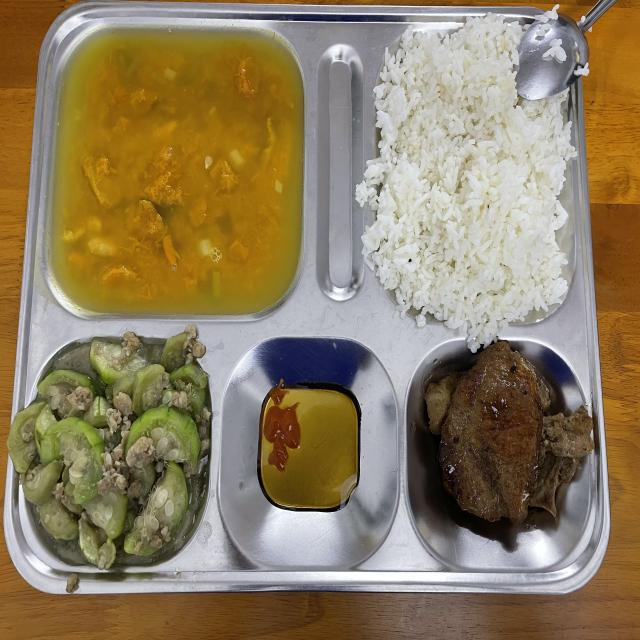canh bi do: (50, 30, 304, 312)
com: (356, 15, 577, 350)
nuoc mam: (259, 379, 358, 510)
suon mieng: (425, 341, 594, 523)
